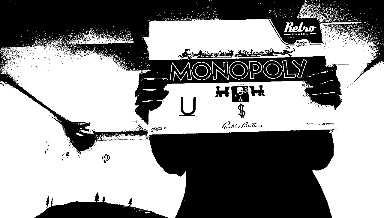U: (177, 94, 197, 113)
